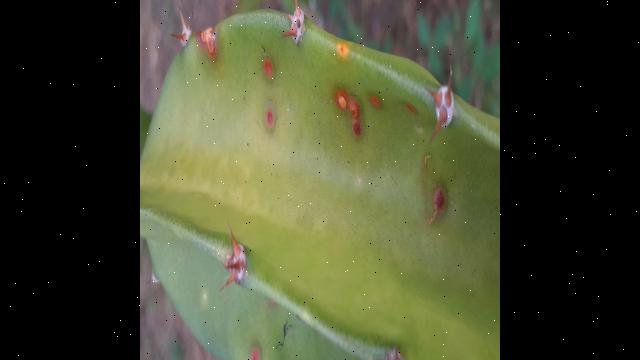stemcanker: (333, 83, 367, 139), (425, 184, 450, 224), (261, 99, 282, 134), (259, 53, 279, 83), (365, 87, 387, 114), (333, 39, 355, 65)
